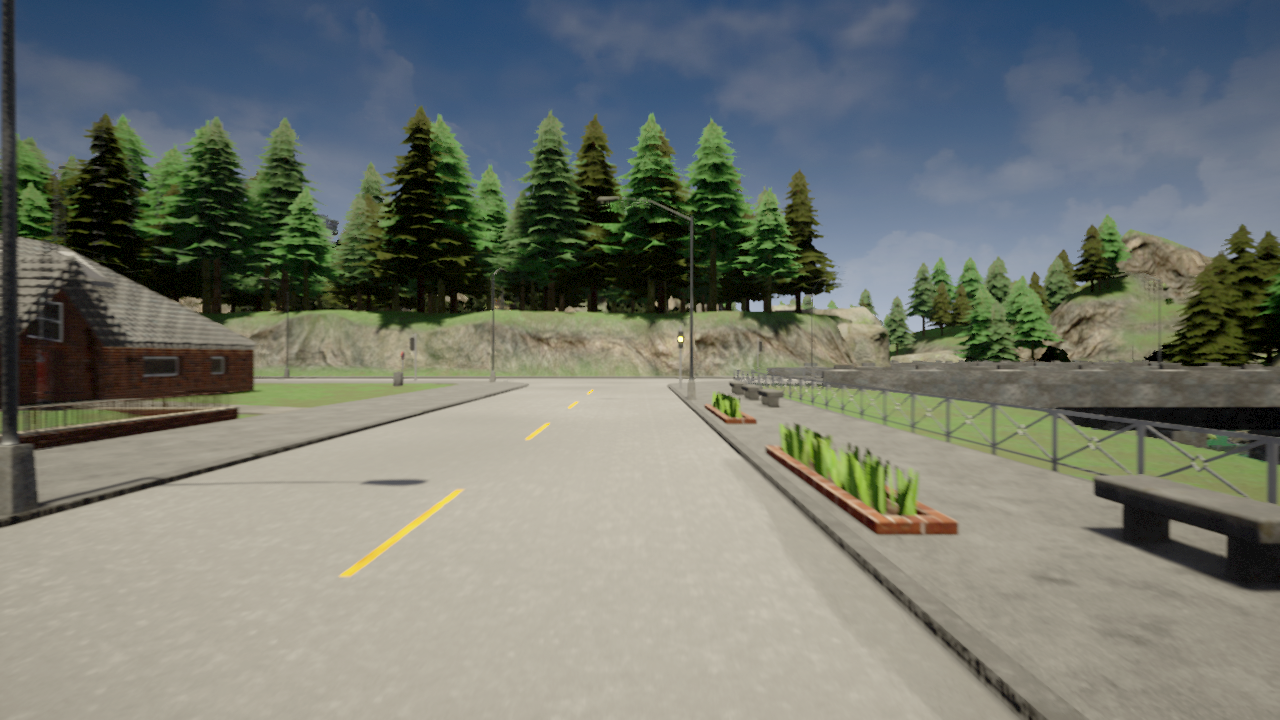yellow: (676, 330, 685, 350)
